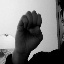e: (14, 9, 44, 52)
